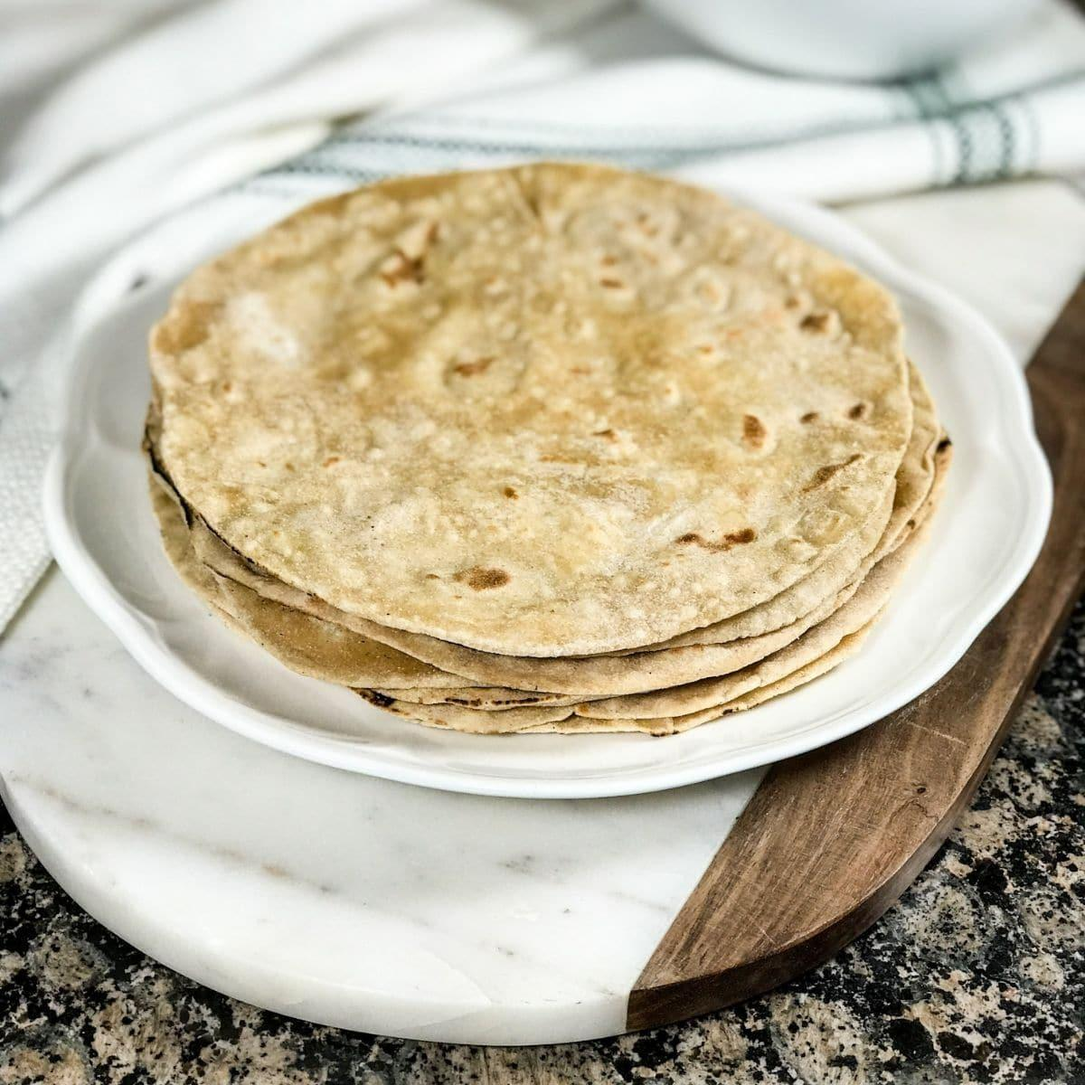roti phulka: (142, 156, 954, 741)
